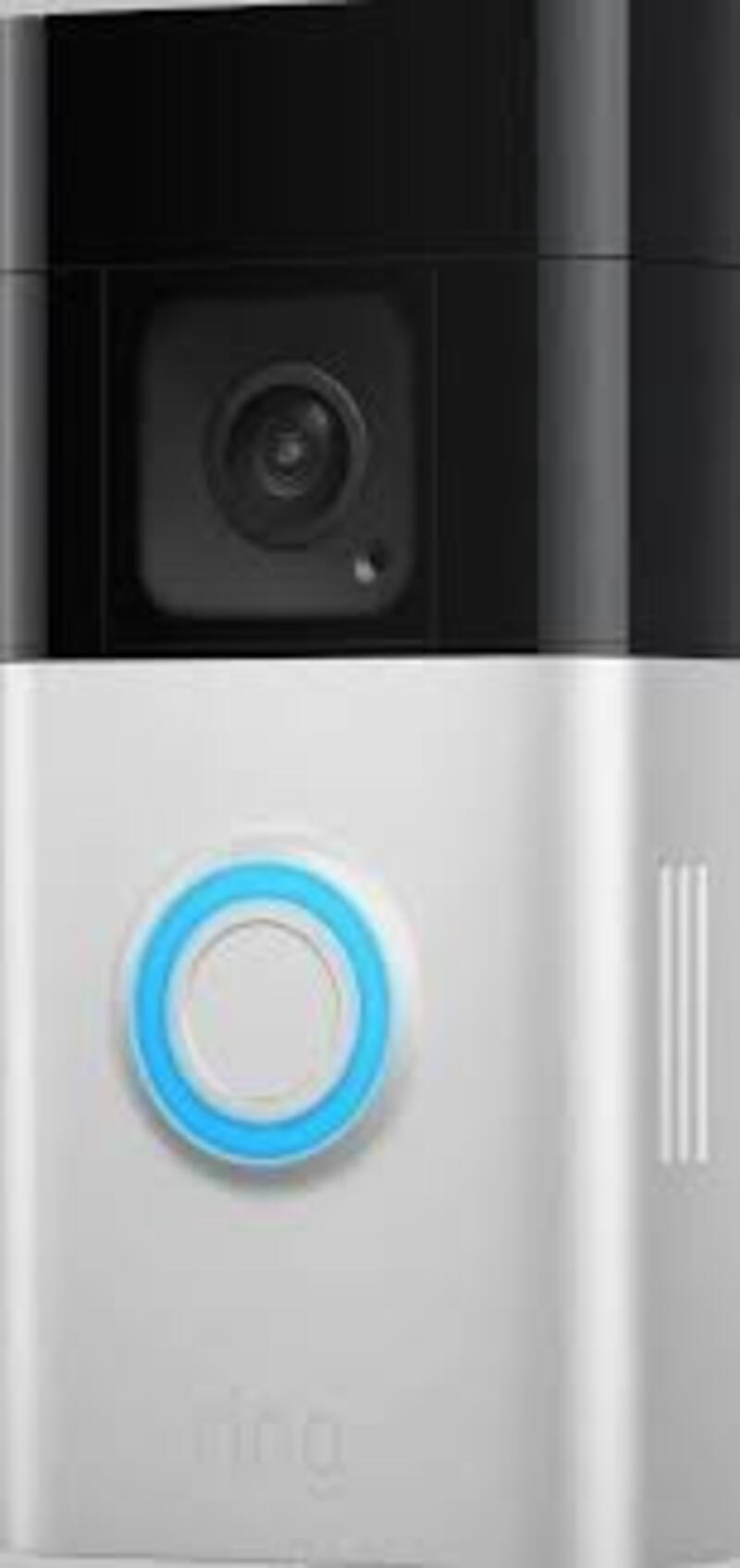doorbell: (4, 4, 738, 1566)
